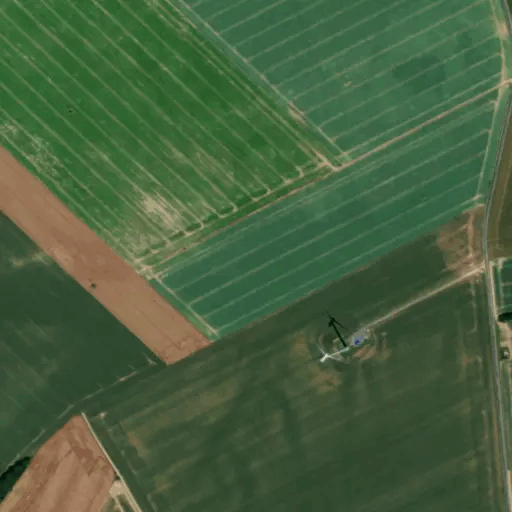wt: (311, 307, 358, 371)
